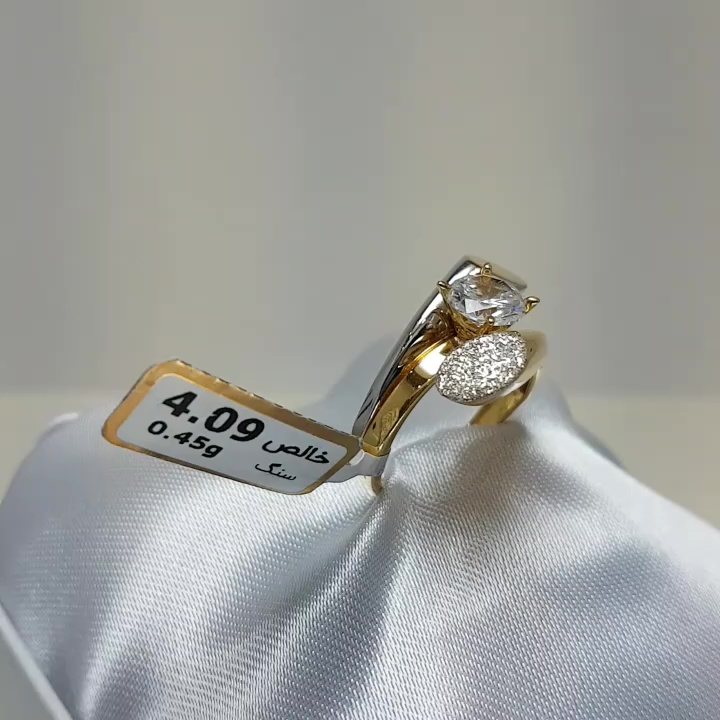Ring 7: (339, 249, 577, 518)
